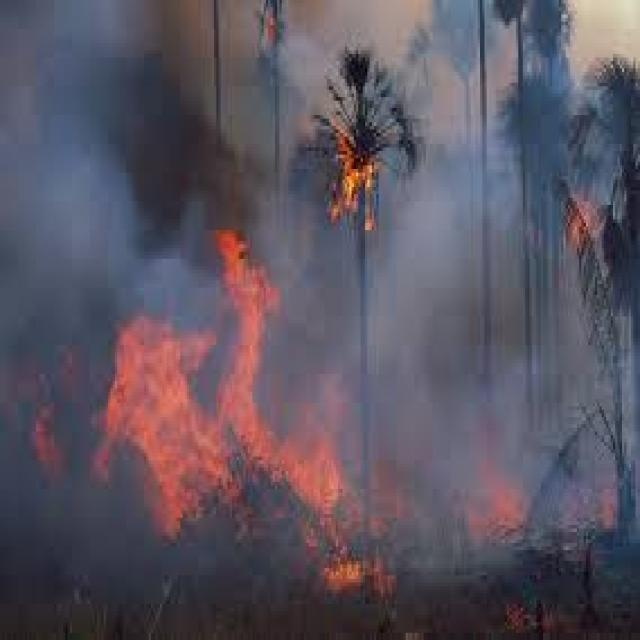Fire: (94, 299, 216, 552), (214, 210, 279, 460), (291, 111, 408, 247), (451, 442, 536, 567), (273, 404, 354, 524), (542, 178, 622, 281), (309, 540, 377, 606), (22, 404, 74, 484), (244, 0, 298, 65)
Smoke: (387, 190, 598, 553), (0, 0, 189, 351)
